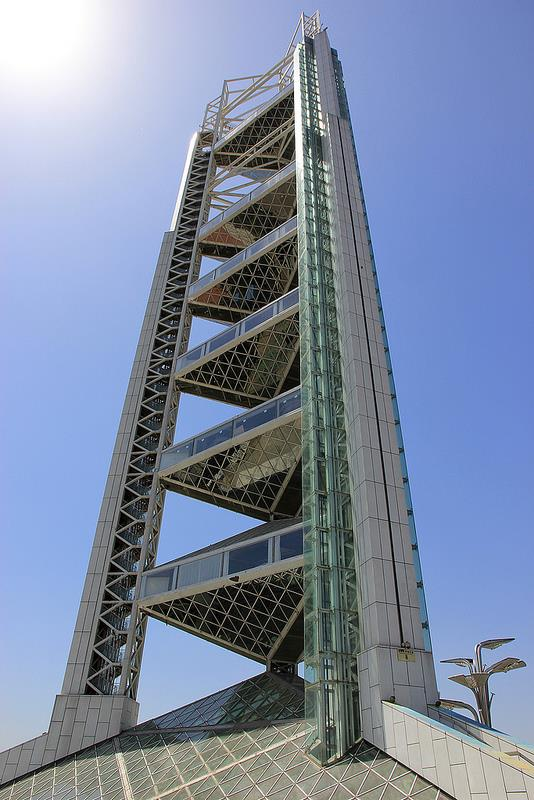LingLong_Pagoda: (92, 42, 447, 736)
